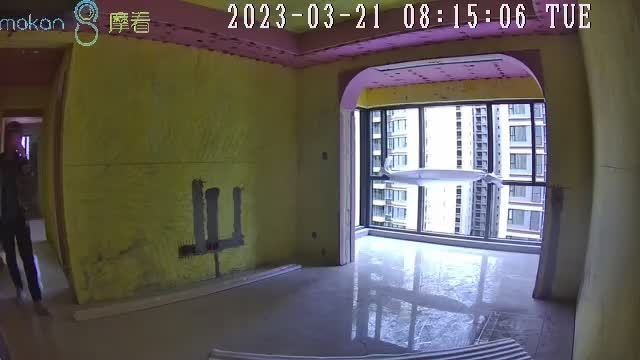people: (1, 121, 48, 314)
window: (358, 99, 548, 244)
